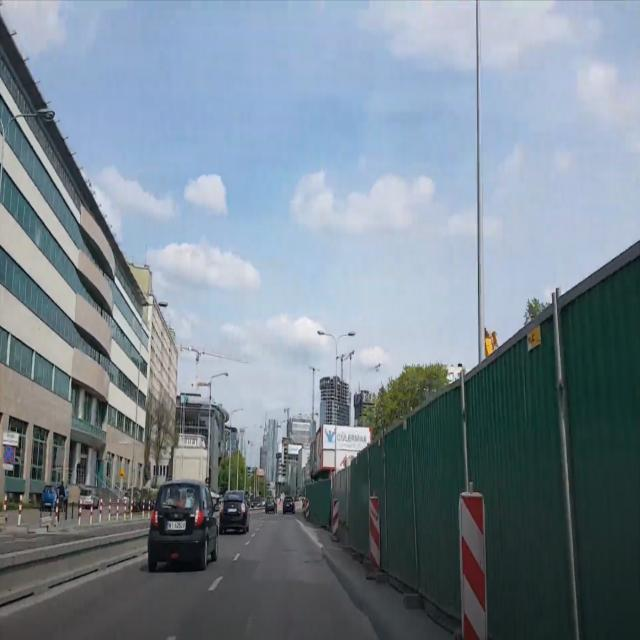Zakaz zatrzymywania sie: (3, 446, 15, 464)
